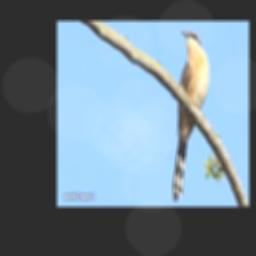Cuckoo: (173, 31, 209, 202)
